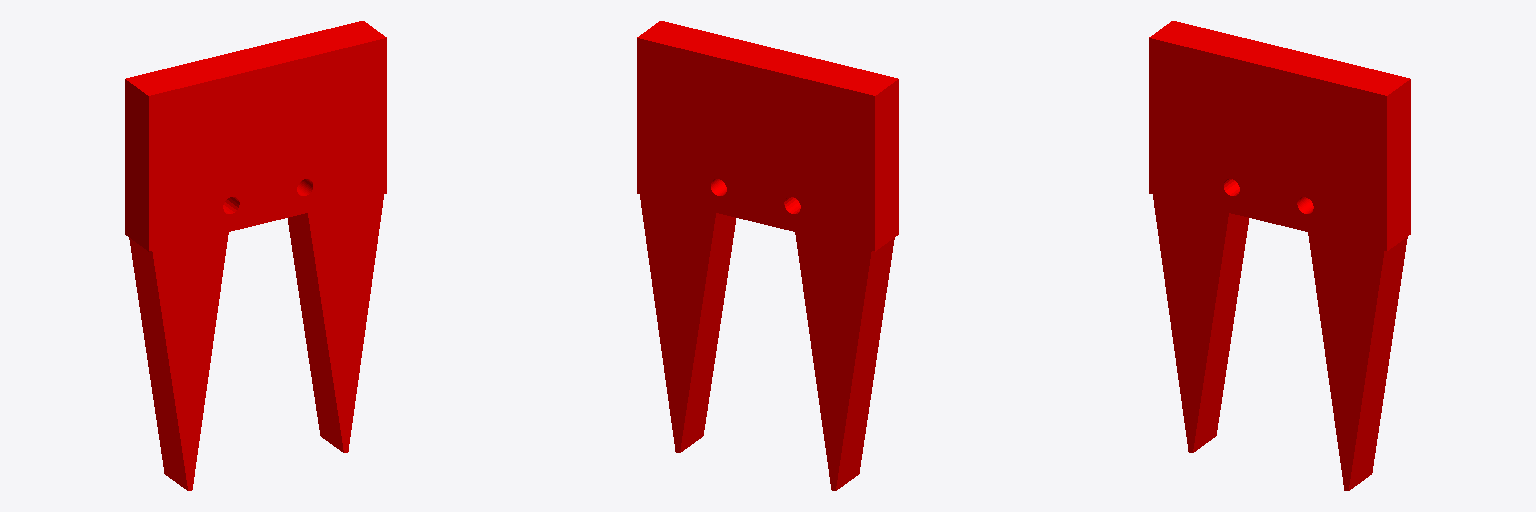
URDF robot description ((Unsaved)):
<?xml version="1.0" ?>
<robot name="(Unsaved)">
<link name="base_link">
  <inertial>
    <origin rpy="0 0 0" xyz="-0.000259 0.0 0.024405"/>
    <mass value="1.302503"/>
    <inertia ixx="0.000609" ixy="0.0" ixz="-8e-06" iyy="0.00204" iyz="8e-06" izz="0.001518"/>
  </inertial>
  <visual>
    <origin rpy="0 0 0" xyz="0 0 0"/>
    <geometry>
      <mesh filename="package://[local-path]/Desktop/Desarrollo/HSSimulacion/CAD_STL_files/grip/mm_stl/Body1.stl" scale="0.001 0.001 0.001"/>
    </geometry>
    <material name="silver">
      <color rgba="1 0 0 1"/>
    </material>
  </visual>
  <collision>
    <origin rpy="0 0 0" xyz="0 0 0"/>
    <geometry>
      <mesh filename="package://[local-path]/Desktop/Desarrollo/HSSimulacion/CAD_STL_files/grip/mm_stl/Body1.stl" scale="0.001 0.001 0.001"/>
    </geometry>
  </collision>
</link>

<link name="Component13_1">
  <inertial>
    <origin rpy="0 0 0" xyz="0.018879 0.01 -0.038259"/>
    <mass value="0.49897"/>
    <inertia ixx="0.000583" ixy="0.0" ixz="-0.000703" iyy="0.000613" iyz="0.000723" izz="6.3e-05"/>
  </inertial>
  <visual>
    <origin rpy="0 0 0" xyz="-0.01793 0.01 4.3e-05"/>
    <geometry>
      <mesh filename="package://[local-path]/Desktop/Desarrollo/HSSimulacion/CAD_STL_files/grip/mm_stl/13.stl" scale="0.001 0.001 0.001"/>
    </geometry>
    <material name="silver">
      <color rgba="1 0 0 1"/>
    </material>
  </visual>
  <collision>
    <origin rpy="0 0 0" xyz="-0.01793 0.01 4.3e-05"/>
    <geometry>
      <mesh filename="package://[local-path]/Desktop/Desarrollo/HSSimulacion/CAD_STL_files/grip/mm_stl/13.stl" scale="0.001 0.001 0.001"/>
    </geometry>
  </collision>
</link>

<link name="Component11_1">
  <inertial>
    <origin rpy="0 0 0" xyz="-0.018879 -0.01 -0.038259"/>
    <mass value="0.49897"/>
    <inertia ixx="0.000583" ixy="0.0" ixz="0.000704" iyy="0.000613" iyz="-0.000724" izz="6.3e-05"/>
  </inertial>
  <visual>
    <origin rpy="0 0 0" xyz="0.017999 -0.01 1e-06"/>
    <geometry>
      <mesh filename="package://[local-path]/Desktop/Desarrollo/HSSimulacion/CAD_STL_files/grip/mm_stl/11.stl" scale="0.001 0.001 0.001"/>
    </geometry>
    <material name="silver">
      <color rgba="1 0 0 1"/>
    </material>
  </visual>
  <collision>
    <origin rpy="0 0 0" xyz="0.017999 -0.01 1e-06"/>
    <geometry>
      <mesh filename="package://[local-path]/Desktop/Desarrollo/HSSimulacion/CAD_STL_files/grip/mm_stl/11.stl" scale="0.001 0.001 0.001"/>
    </geometry>
  </collision>
</link>

<joint name="Rev10" type="continuous">
  <origin rpy="0 0 0" xyz="0.01793 -0.01 -4.3e-05"/>
  <parent link="base_link"/>
  <child link="Component13_1"/>
  <axis xyz="0.0 -0.01 0.0"/>
  <limit>
    <lower>-0.6</lower>
    <upper>0.3</upper>
    <velocity>1</velocity>
  </limit>
</joint>


<joint name="Rev11" type="continuous">
  <origin rpy="0 0 0" xyz="-0.017999 0.01 -1e-06"/>
  <parent link="base_link"/>
  <child link="Component11_1"/>
  <axis xyz="0.0 -0.01 0.0"/>
  <limit>
    <lower>-0.6</lower>
    <upper>0.3</upper>
    <velocity>1</velocity>
  </limit>
</joint>
</robot>

--- Render facts (derived) ---
Views: 3 orthographic renders of the robot side by side, from view 1: azimuth 30°, elevation 25°; view 2: azimuth 150°, elevation 25°; view 3: azimuth 330°, elevation 25°.
Robot: (Unsaved) — 3 links, 2 joints (2 continuous); root link base_link; default pose: every joint at zero.
Visible links, largest first — view 1: base_link, Component13_1, Component11_1; view 2: base_link, Component13_1, Component11_1; view 3: base_link, Component13_1, Component11_1.
Boxes of the visible links, x1=… form: base_link: x1=125, y1=21, x2=386, y2=251; Component13_1: x1=287, y1=155, x2=383, y2=452; Component11_1: x1=129, y1=182, x2=249, y2=490; base_link: x1=637, y1=21, x2=898, y2=251; Component13_1: x1=640, y1=149, x2=736, y2=452; Component11_1: x1=775, y1=187, x2=894, y2=490; base_link: x1=1149, y1=21, x2=1410, y2=250; Component13_1: x1=1287, y1=190, x2=1407, y2=490; Component11_1: x1=1153, y1=156, x2=1249, y2=452.
Size in the robot's own frame: 0.116 by 0.02 by 0.1884 metres.
3 mesh visuals loaded from 3 distinct referenced files (3 binary STL).